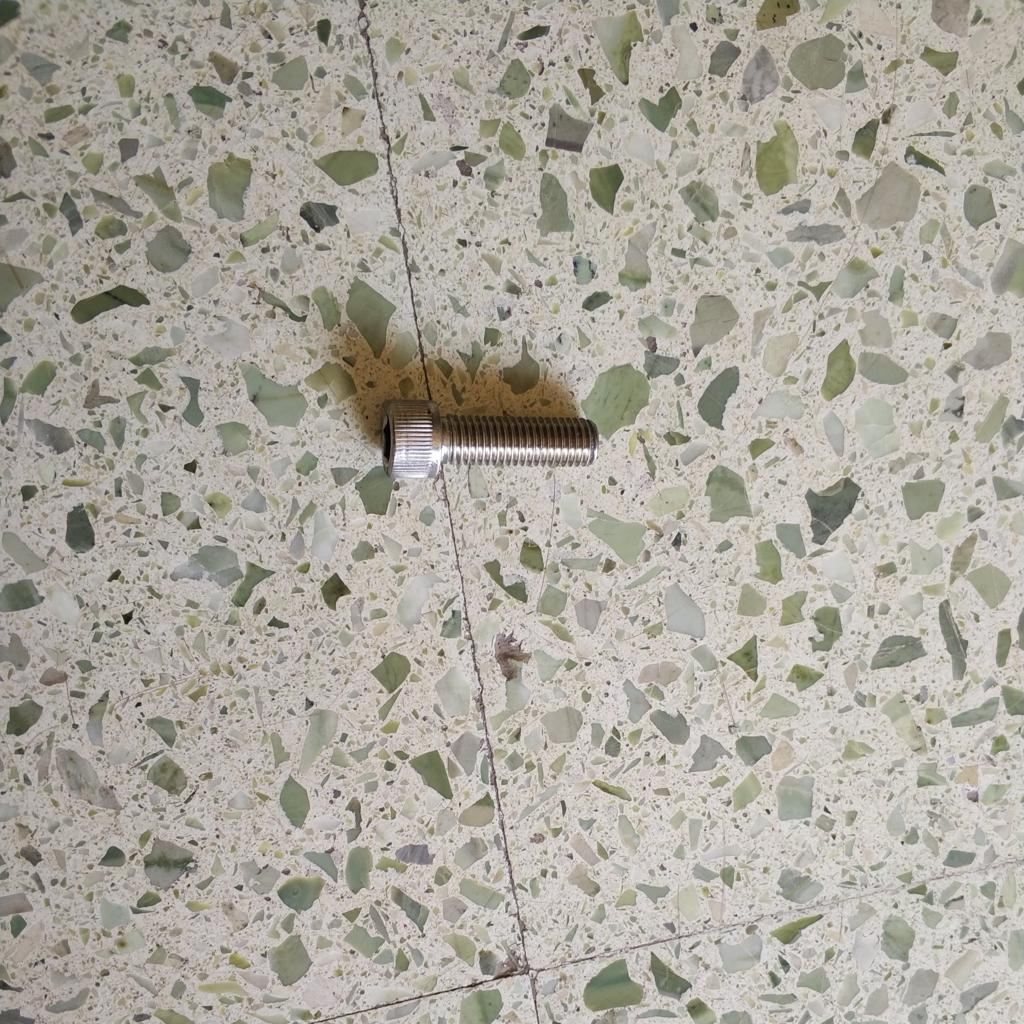screwtype1silver: (376, 391, 608, 496)
